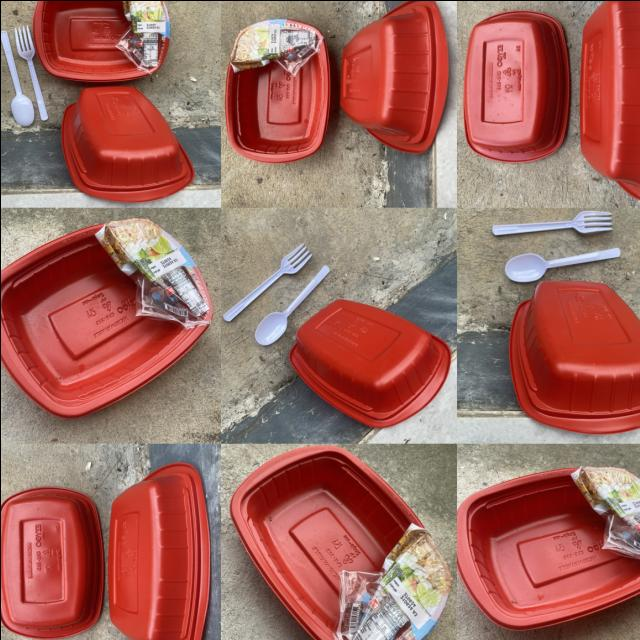plastik: (229, 445, 451, 640), (0, 217, 211, 416), (457, 466, 640, 629), (288, 298, 450, 426), (508, 280, 640, 433), (107, 463, 208, 640), (339, 0, 447, 152), (462, 9, 569, 162), (0, 486, 103, 637), (225, 18, 328, 162), (579, 0, 640, 200), (32, 0, 169, 81), (222, 243, 310, 321), (254, 265, 328, 344), (504, 247, 619, 282), (0, 30, 34, 126), (14, 25, 48, 119), (491, 210, 610, 234)
